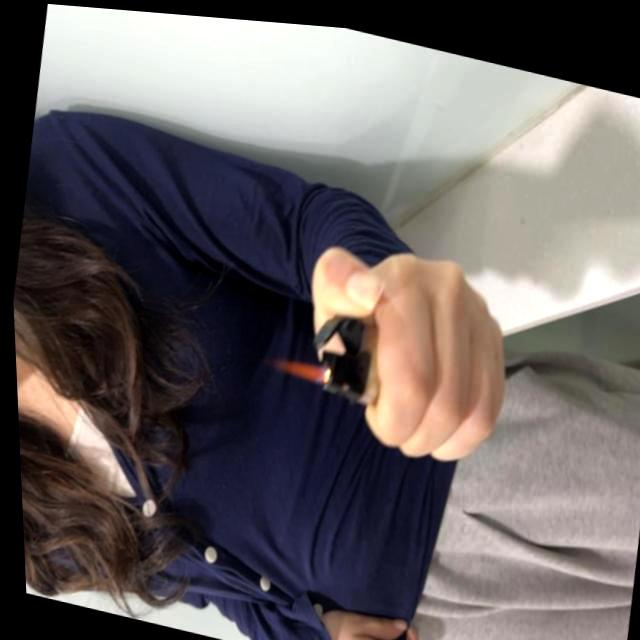fire: (264, 348, 328, 379)
